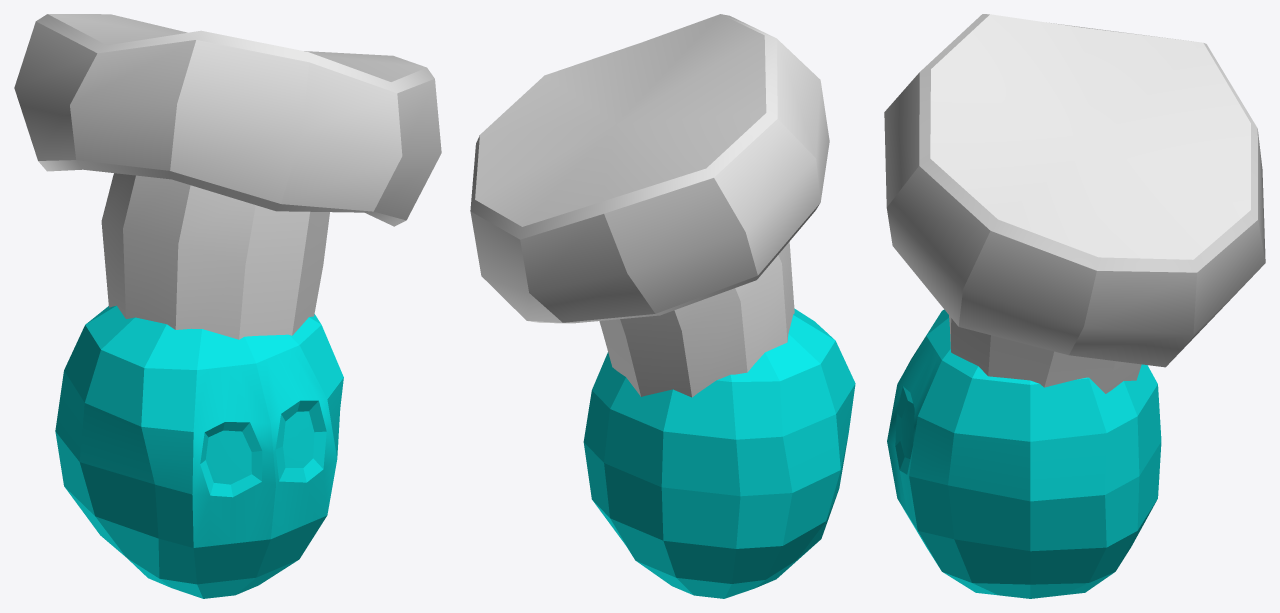
The model's file is Cheff_Soul_V1.fbx.
3 views of the same model, side by side, from view 1: azimuth 30°, elevation 25°; view 2: azimuth 150°, elevation 25°; view 3: azimuth 270°, elevation 25° (orthographic). The views are drawn at different scales.
Parts seen in each view (by area): view 1: polySurface2; view 2: polySurface2; view 3: polySurface2.
Part boxes in pixels (left/top/right/bottom): polySurface2: left=14, top=14, right=441, bottom=598; polySurface2: left=470, top=14, right=855, bottom=598; polySurface2: left=884, top=14, right=1265, bottom=598.
Bounding box in the file's own units: 2.44 × 3.73 × 2.31.
